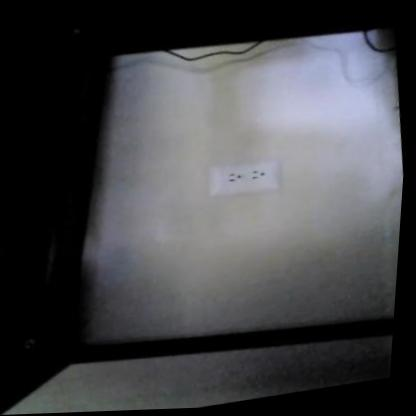OUTLET: (205, 155, 282, 199)
